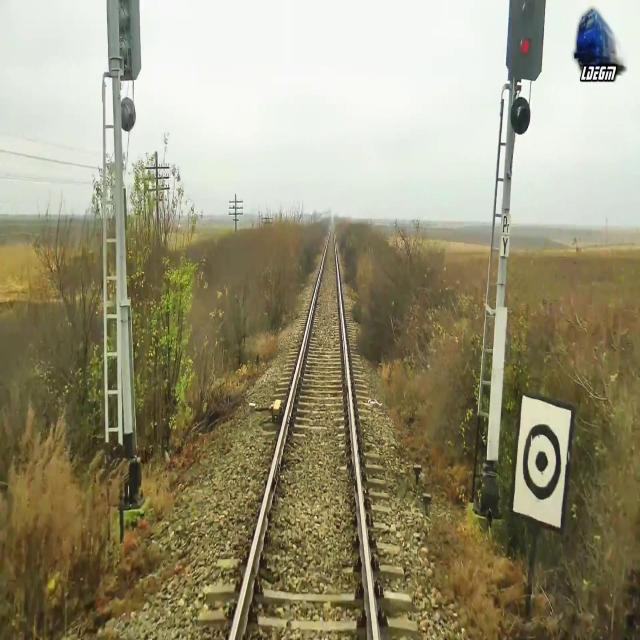rail-track: (234, 226, 373, 639)
